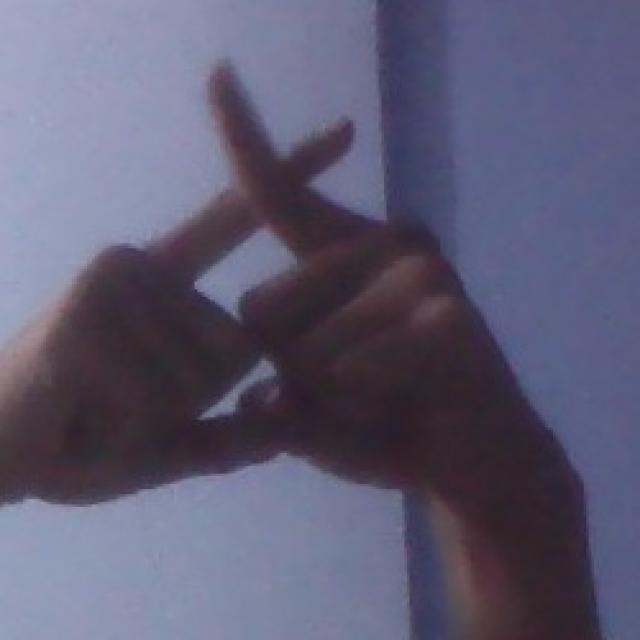Alphabet-X: (0, 60, 579, 529)
